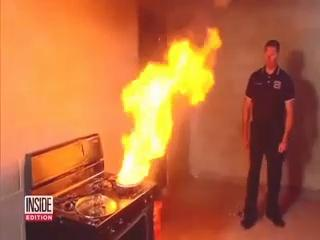Fire: (114, 11, 224, 190)
